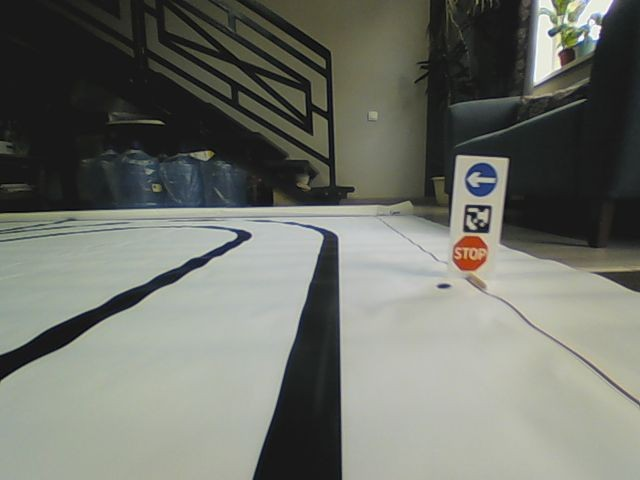Stop: (451, 233, 488, 272)
